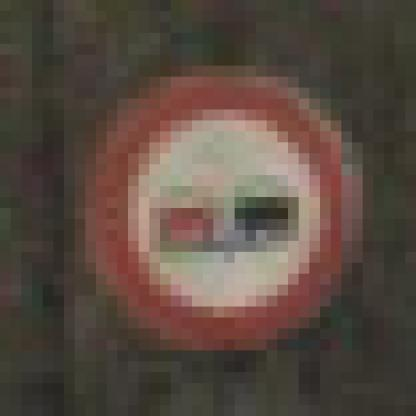No Overtaking: (65, 56, 353, 362)
